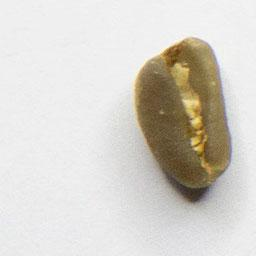peaberry: (131, 32, 237, 195)
